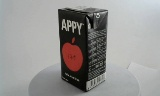appy: (52, 4, 101, 92)
